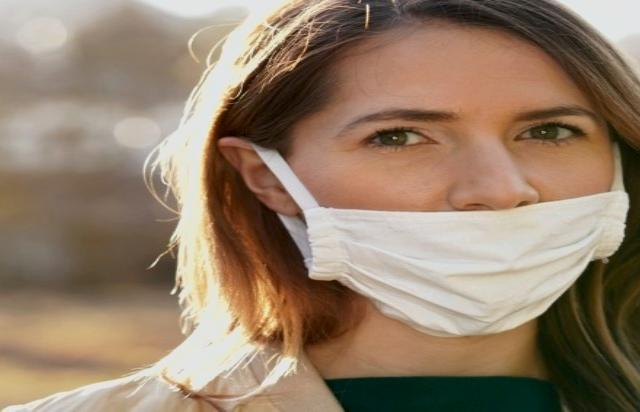mask_weared_incorrect: (177, 1, 631, 341)
